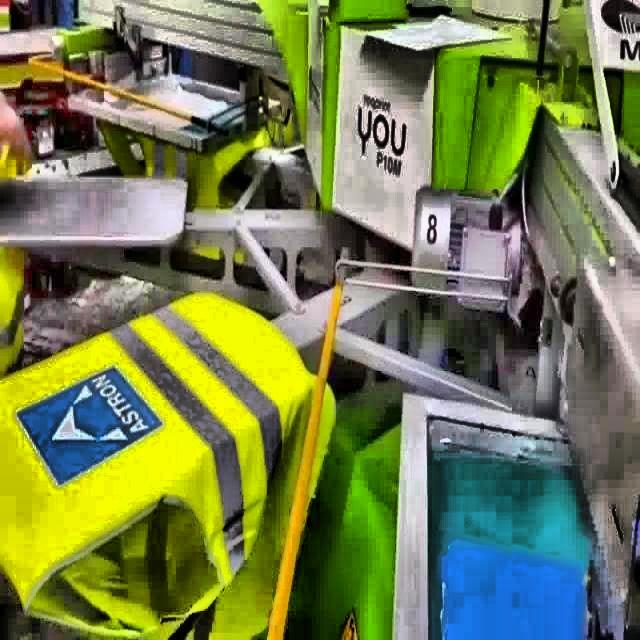safety_jacket: (1, 286, 339, 640)
